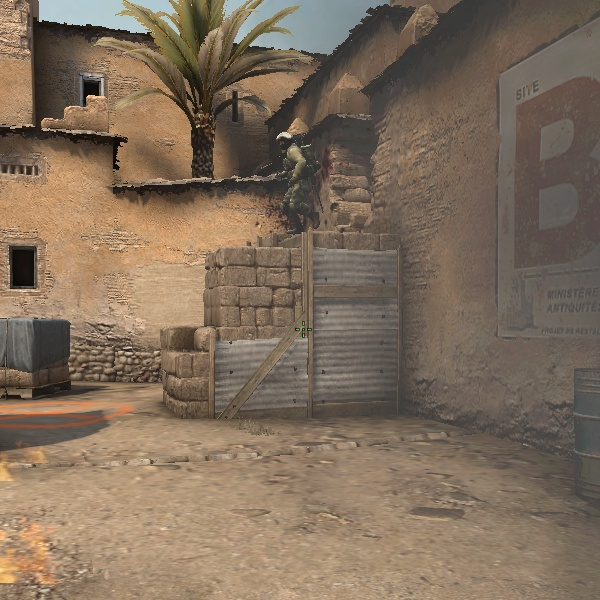ct_body: (258, 125, 322, 244)
ct_head: (271, 129, 297, 154)
